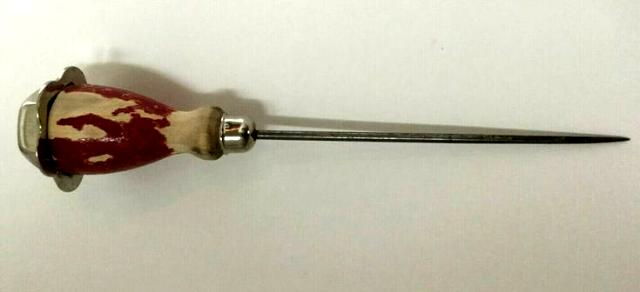ice pick: (17, 66, 631, 192)
